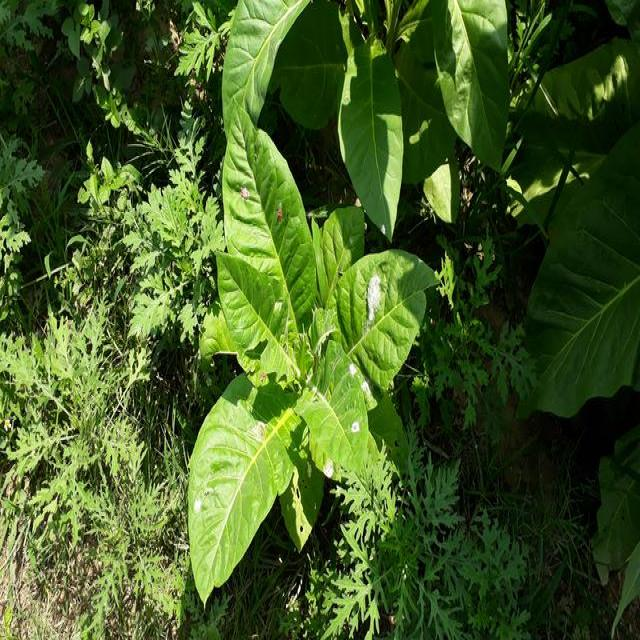crop: (186, 104, 438, 609)
